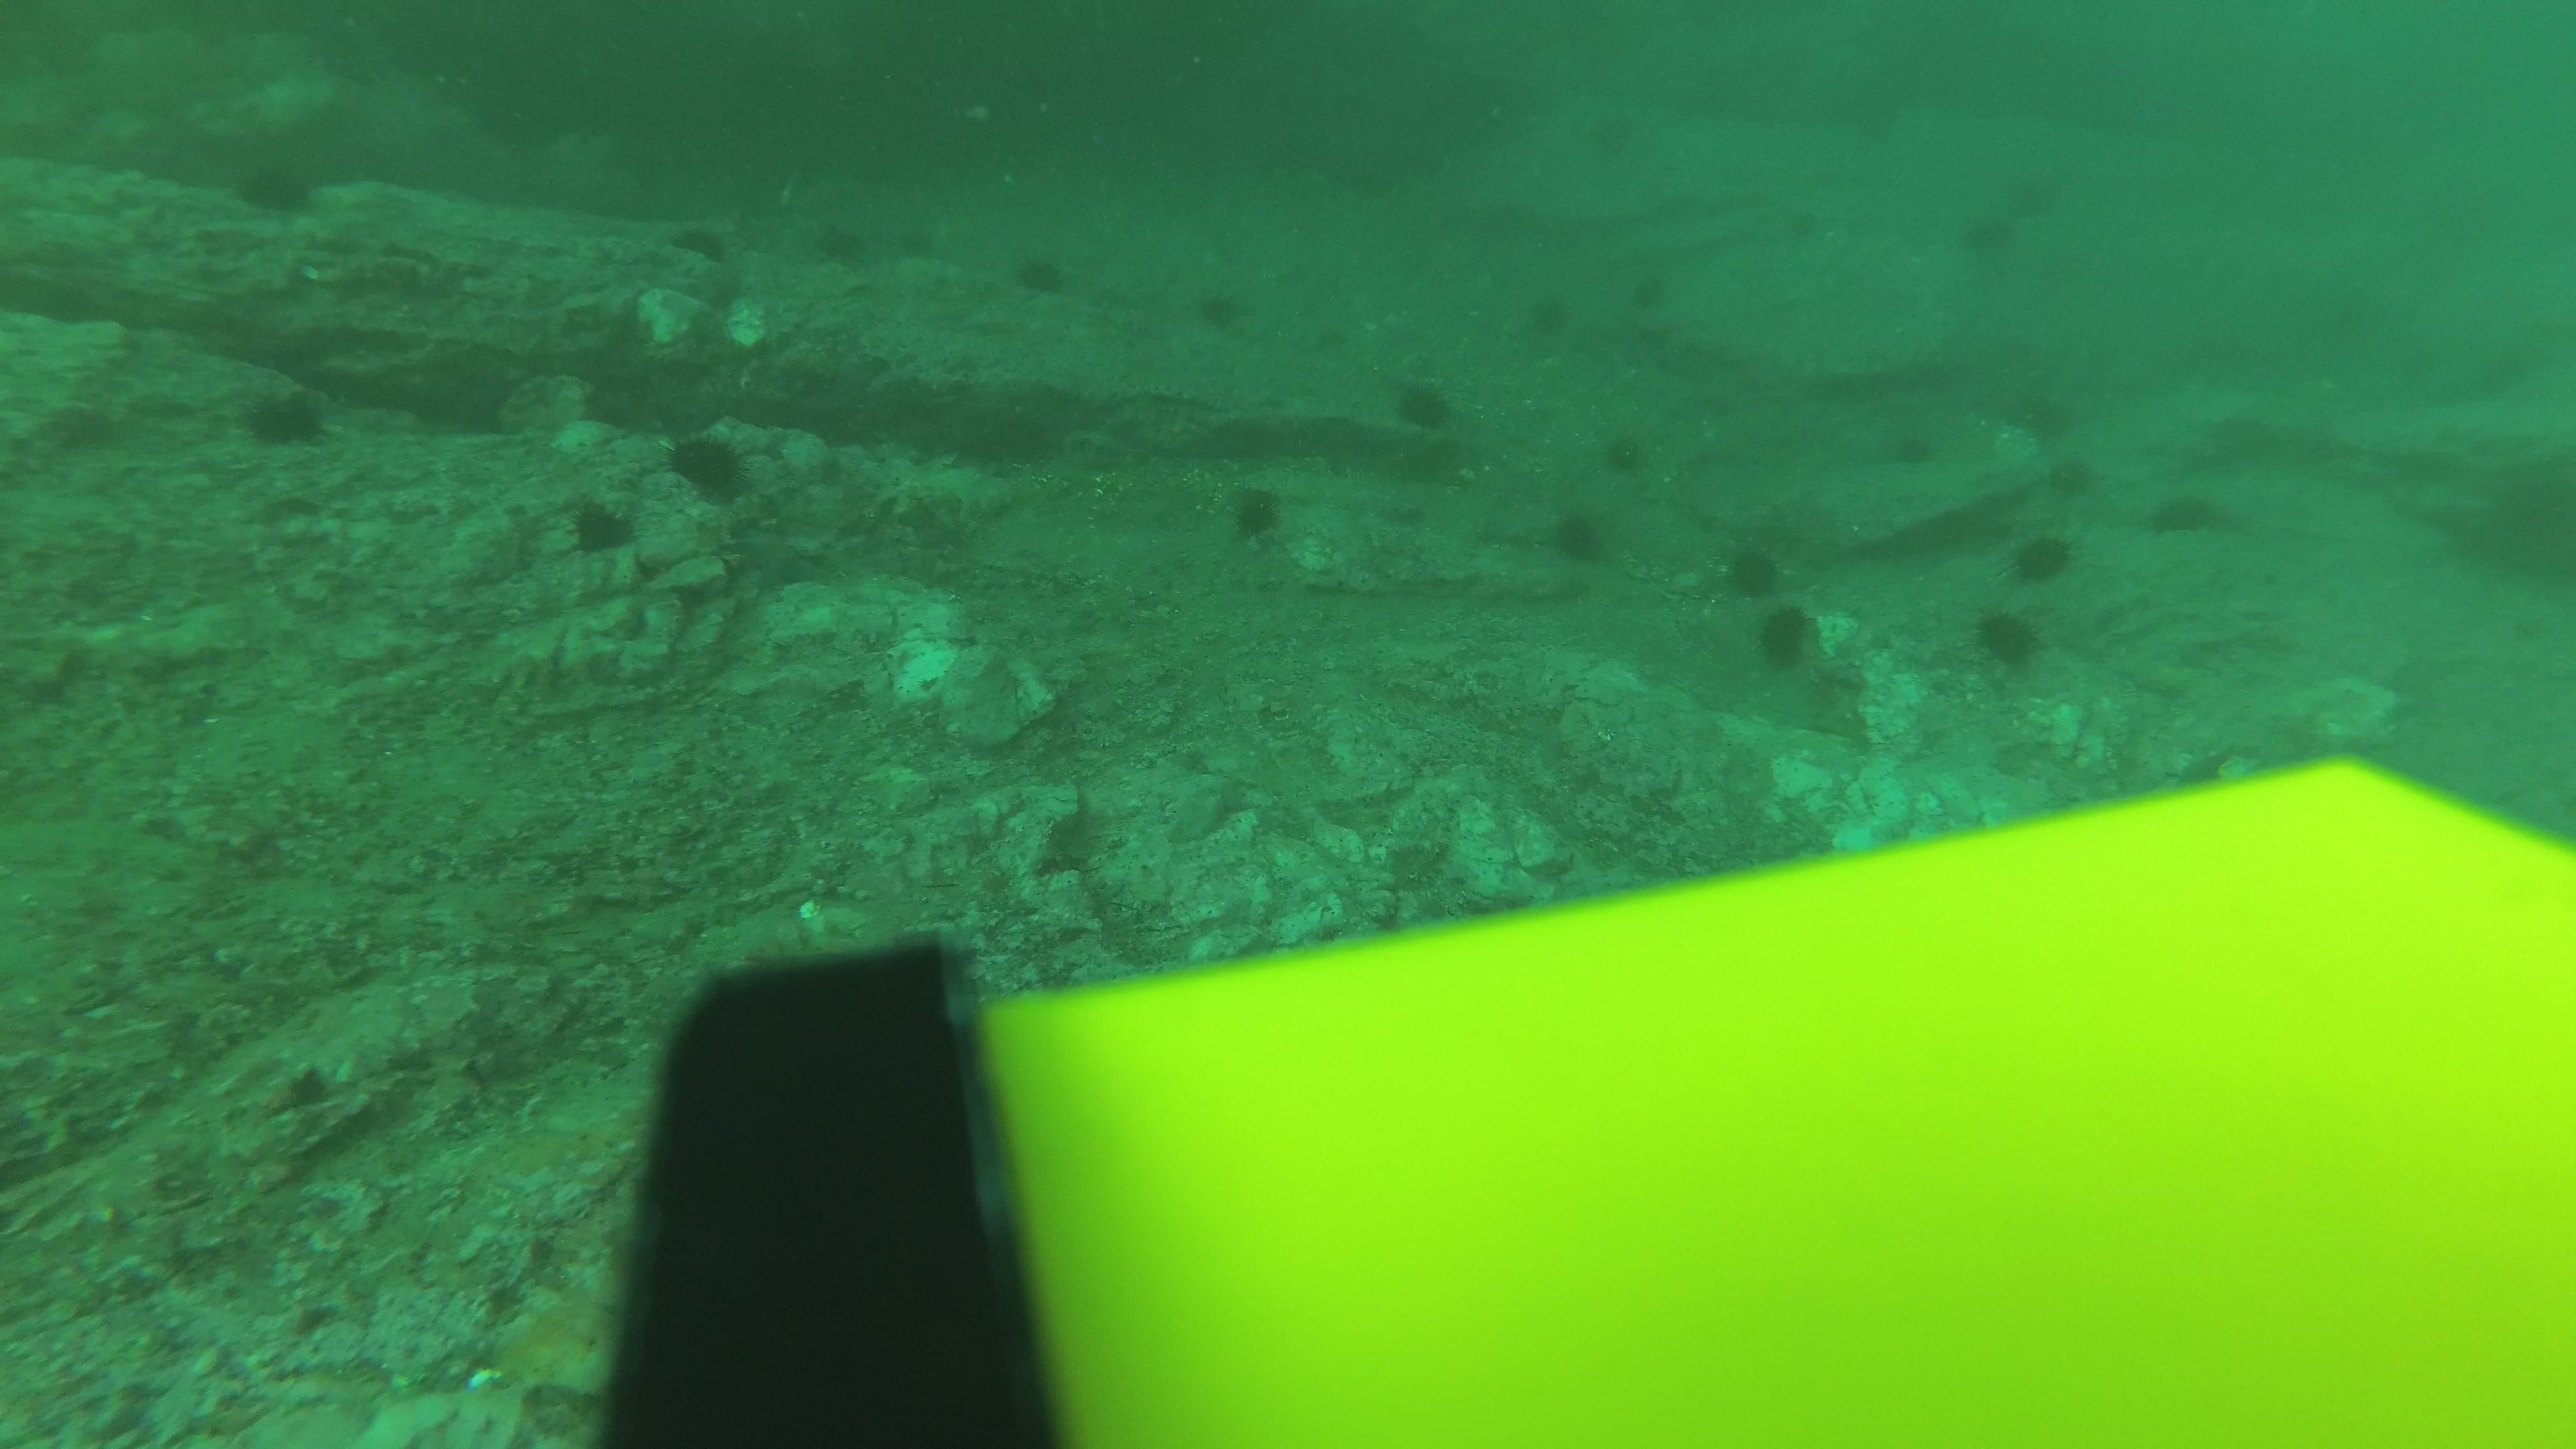echinus: (239, 379, 336, 451), (665, 426, 754, 502), (234, 152, 320, 219), (563, 492, 639, 557), (2148, 483, 2233, 541), (1971, 605, 2042, 672), (1753, 600, 1819, 671), (2006, 380, 2079, 444), (1224, 479, 1292, 545), (2006, 525, 2077, 586), (1721, 536, 1787, 600), (1580, 101, 1647, 163), (1951, 205, 2019, 267), (1879, 416, 1946, 478), (1391, 373, 1458, 433), (1617, 262, 1684, 322), (1826, 96, 1893, 156), (1769, 200, 1836, 260), (1546, 504, 1610, 566), (1516, 281, 1582, 341), (1191, 280, 1253, 336), (812, 216, 872, 271), (1012, 246, 1072, 299), (669, 218, 732, 262), (1599, 425, 1649, 478), (2045, 451, 2097, 501)
starfish: (725, 520, 828, 594)
